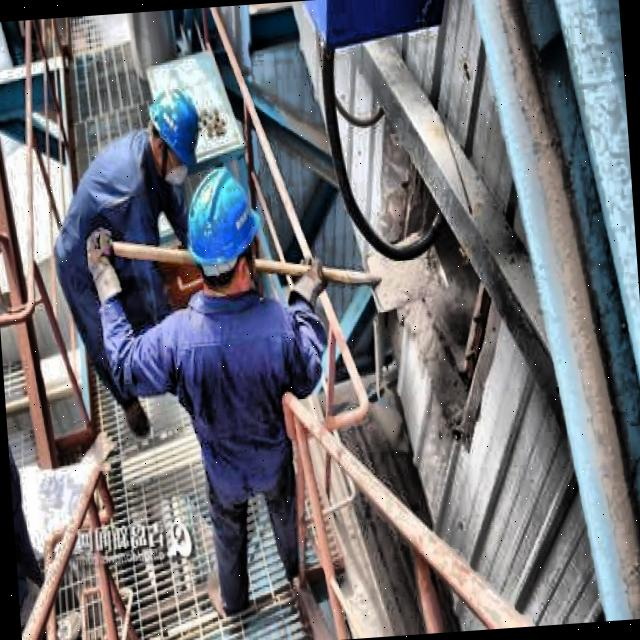helmet: (179, 154, 263, 298), (138, 73, 214, 195)
